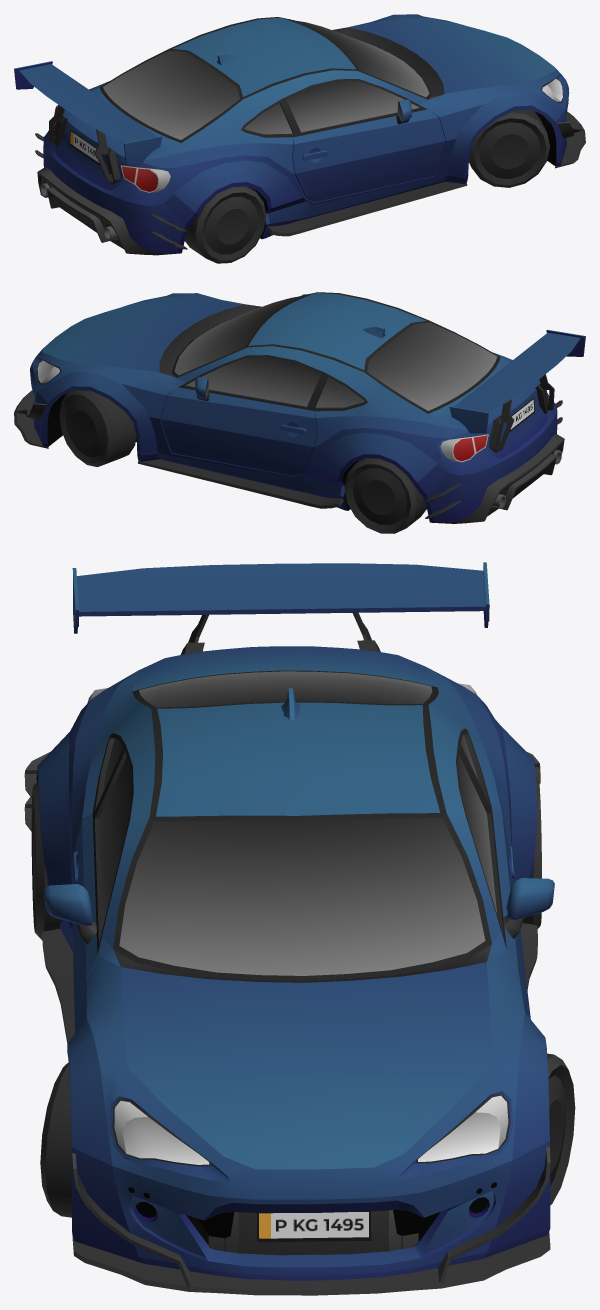
Rendered from voiture_1.fbx.
3 views of the same model, one above another, from view 1: azimuth 30°, elevation 25°; view 2: azimuth 150°, elevation 25°; view 3: azimuth 270°, elevation 25° (orthographic). The views are drawn at different scales.
Visible parts, largest first — view 1: Chassis.001, FRW.001, RRW.001, License Plate Back.001; view 2: Chassis.001, RLW.001, FLW.001, License Plate Back.001; view 3: Chassis.001, FRW.001, License Plate Front.001, FLW.001, RRW.001.
Boxes of the visible parts, <box> form: Chassis.001: <box>14,14,585,255</box>; FRW.001: <box>469,109,549,187</box>; RRW.001: <box>184,186,266,263</box>; License Plate Back.001: <box>69,129,100,165</box>; Chassis.001: <box>14,292,585,523</box>; RLW.001: <box>344,458,426,533</box>; FLW.001: <box>59,390,136,466</box>; License Plate Back.001: <box>507,398,534,432</box>; Chassis.001: <box>24,562,554,1295</box>; FRW.001: <box>40,1062,71,1217</box>; License Plate Front.001: <box>257,1211,371,1242</box>; FLW.001: <box>547,1053,575,1204</box>; RRW.001: <box>31,781,60,940</box>.
Size of the model in its own units: 138 by 39.09 by 66.15.
